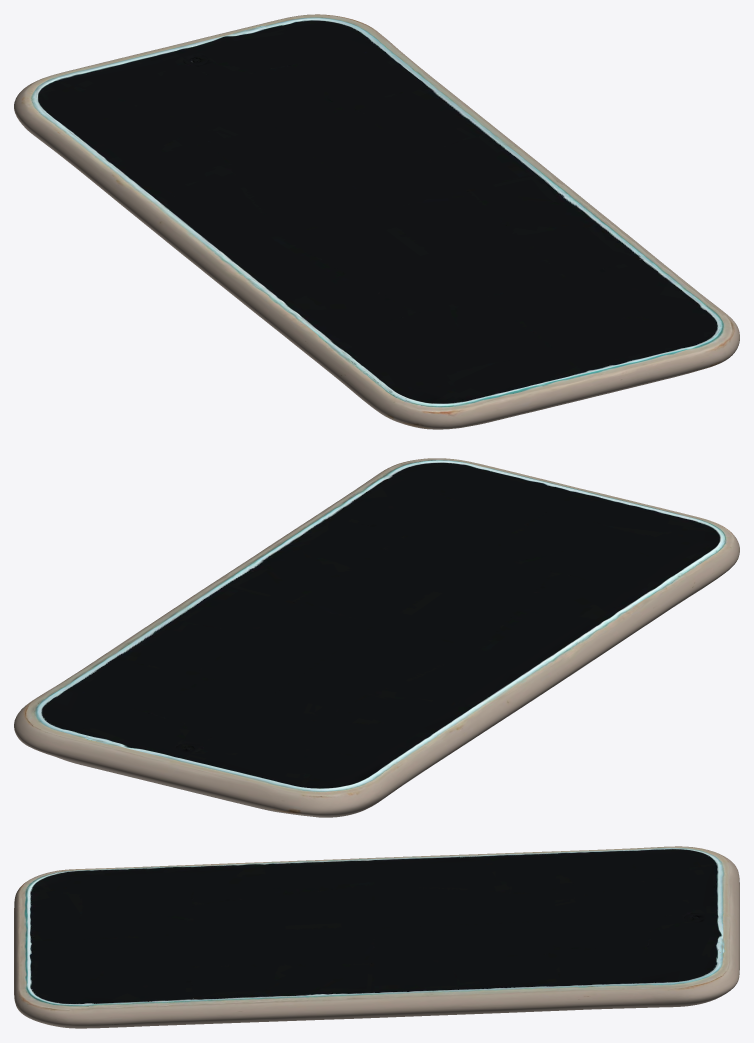
The model's file is phone.medium.glb.
The picture shows the model from 3 angles, top to bottom: view 1: azimuth 30°, elevation 25°; view 2: azimuth 150°, elevation 25°; view 3: azimuth 270°, elevation 25°; orthographic projection. The views are drawn at different scales.
Visible parts, largest first — view 1: tripo_node_07d1b652-0d5b-485e-823b-987d156e292a; view 2: tripo_node_07d1b652-0d5b-485e-823b-987d156e292a; view 3: tripo_node_07d1b652-0d5b-485e-823b-987d156e292a.
Boxes of the visible parts, x1,y1,x2,y2 form: tripo_node_07d1b652-0d5b-485e-823b-987d156e292a: (14,14,739,429); tripo_node_07d1b652-0d5b-485e-823b-987d156e292a: (14,458,739,817); tripo_node_07d1b652-0d5b-485e-823b-987d156e292a: (14,846,739,1028).
Bounding box in the file's own units: 0.075 × 0.012 × 0.155.
Materials: 1 (1 with a texture image).
